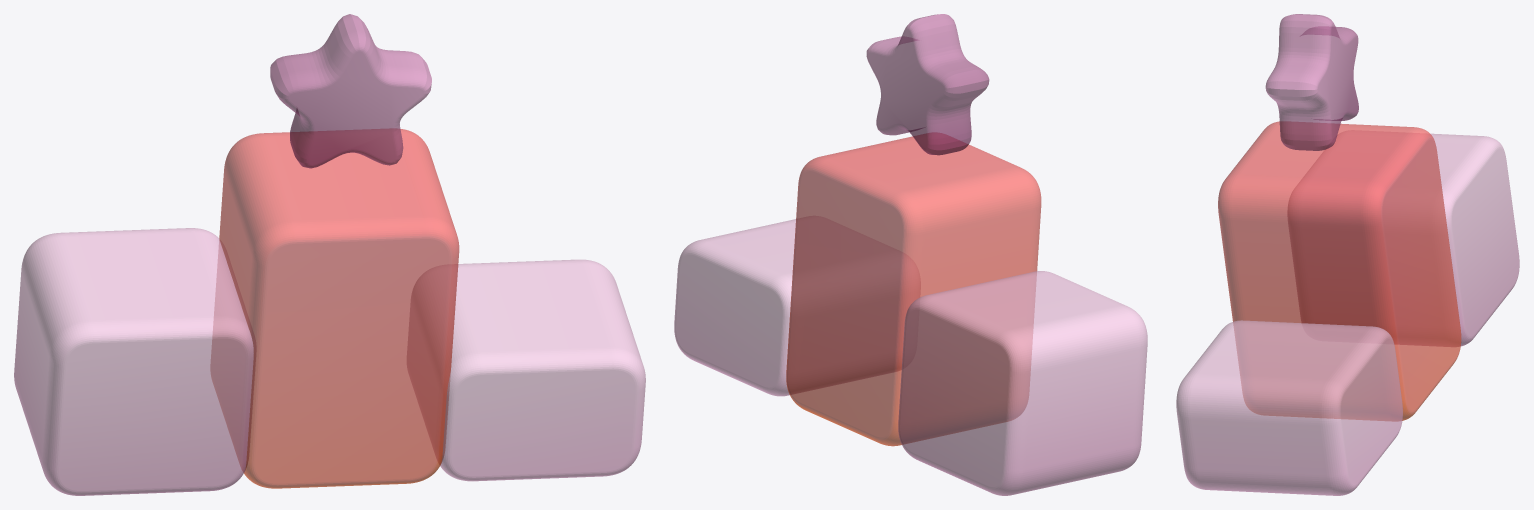
Rendered from middle-podium.glb.
The picture shows the model from 3 angles, left to right: view 1: azimuth 30°, elevation 25°; view 2: azimuth 150°, elevation 25°; view 3: azimuth 270°, elevation 25°; orthographic projection. The views are drawn at different scales.
Parts seen in each view (by area): view 1: podium_2, podium_1, podium_3, star; view 2: podium_2, podium_1, podium_3, star; view 3: podium_2, podium_1, podium_3, star.
Boxes of the visible parts, bbox=[...] form: podium_2: bbox=[211, 129, 459, 488]; podium_1: bbox=[14, 228, 255, 495]; podium_3: bbox=[407, 259, 645, 481]; star: bbox=[270, 14, 431, 168]; podium_2: bbox=[786, 133, 1041, 446]; podium_1: bbox=[898, 271, 1147, 495]; podium_3: bbox=[674, 216, 920, 396]; star: bbox=[866, 14, 989, 155]; podium_2: bbox=[1218, 121, 1461, 420]; podium_1: bbox=[1288, 130, 1519, 346]; podium_3: bbox=[1176, 320, 1402, 495]; star: bbox=[1265, 14, 1358, 150].
Size of the model in its own units: 1.17 by 0.934 by 0.7417.
